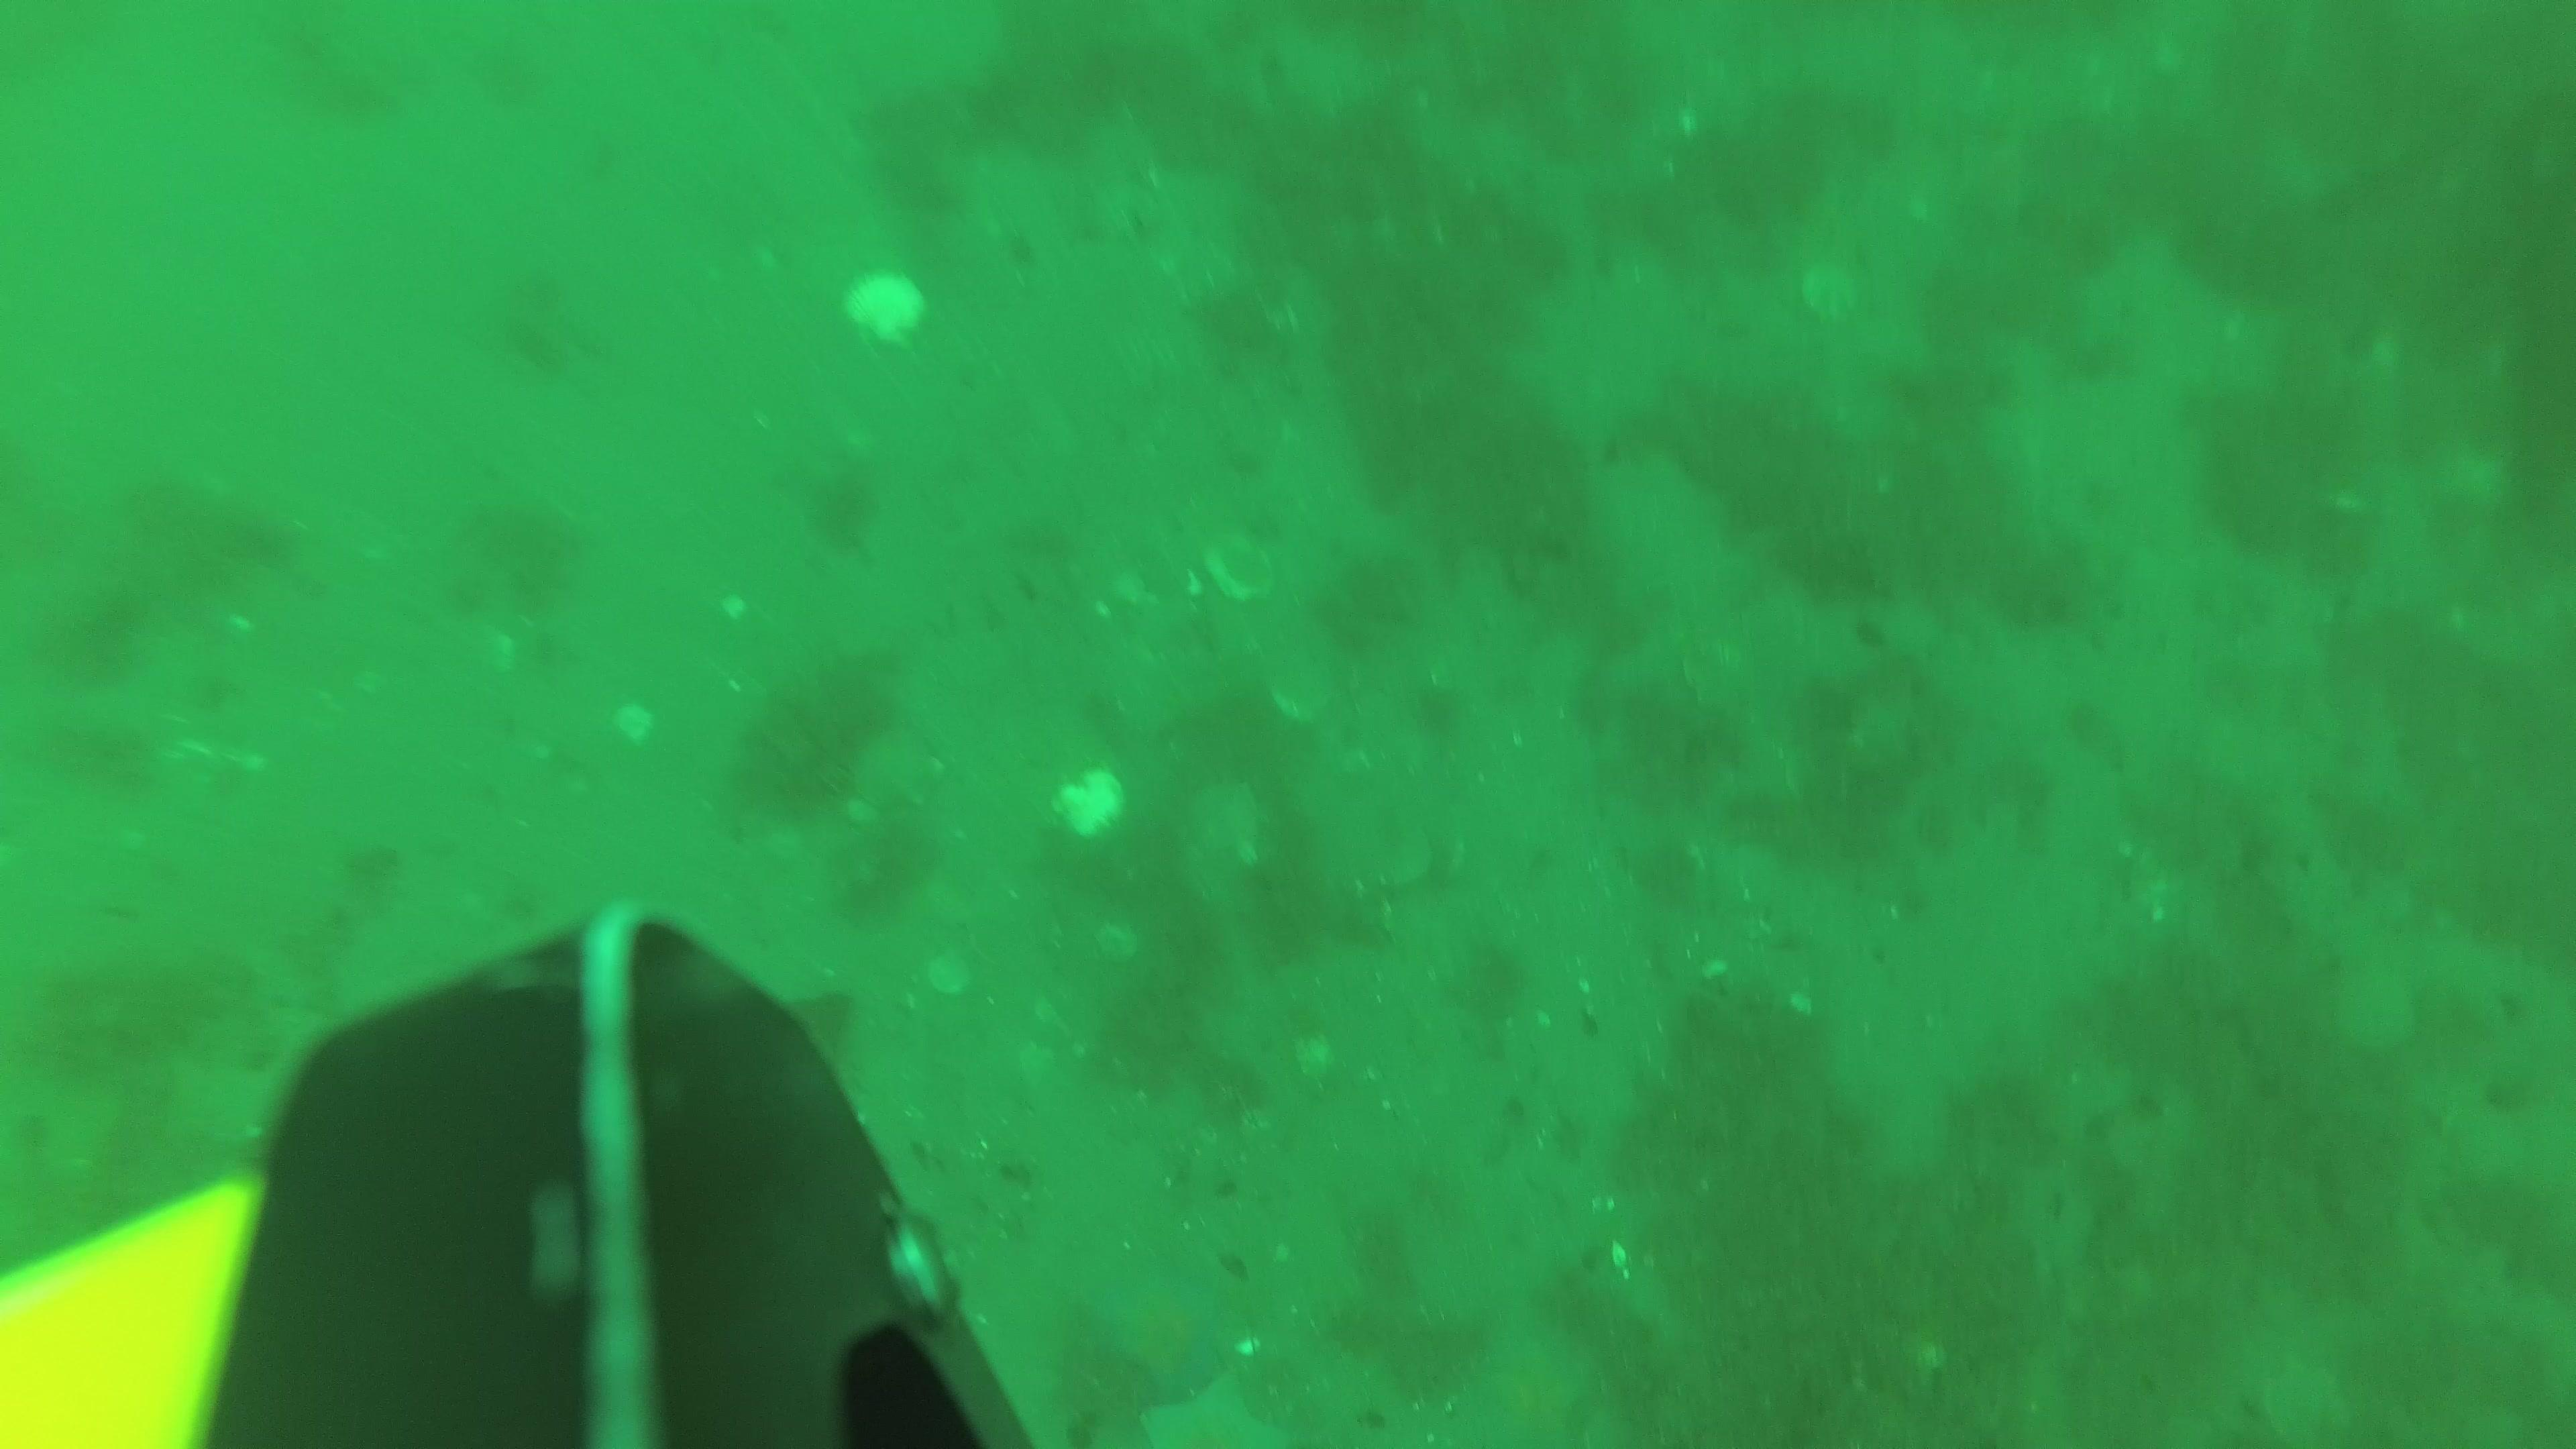scallop: (2332, 959, 2422, 1062), (1677, 621, 1759, 722), (1198, 524, 1281, 609), (839, 272, 934, 345), (1042, 768, 1132, 842), (1185, 780, 1263, 865), (1792, 260, 1870, 327), (1350, 830, 1428, 897), (1258, 671, 1330, 729), (1081, 916, 1145, 962), (918, 955, 977, 1005)
starfish: (1077, 1272, 1224, 1405), (1139, 1378, 1292, 1449)
